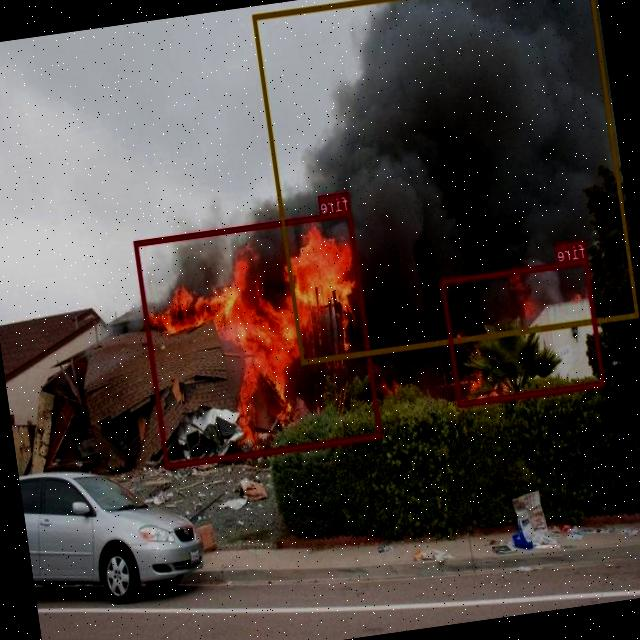fire: (135, 210, 383, 468), (442, 259, 606, 406)
smoke: (253, 0, 640, 363)
